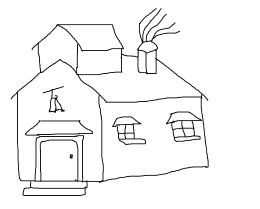closed_window: (108, 113, 149, 161), (162, 105, 203, 151)
door: (23, 116, 96, 188)
roof: (5, 59, 228, 108)
smoking_chimney: (128, 6, 183, 80)
wall: (10, 82, 109, 185)
